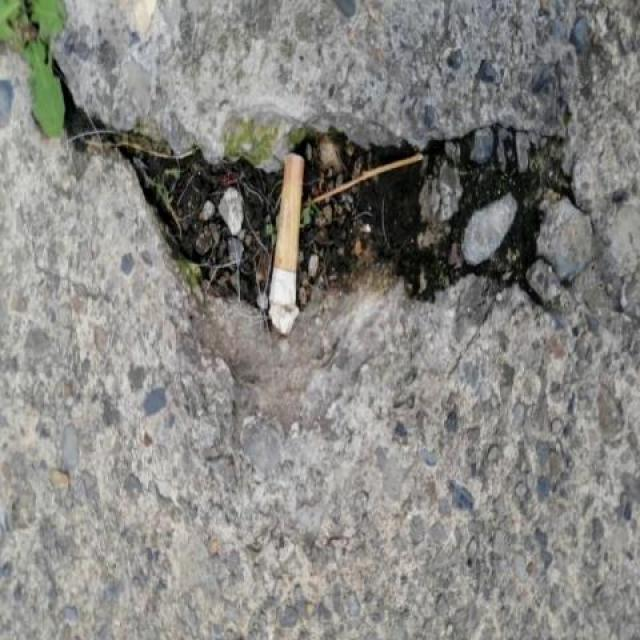non-organic waste: (262, 149, 310, 338)
